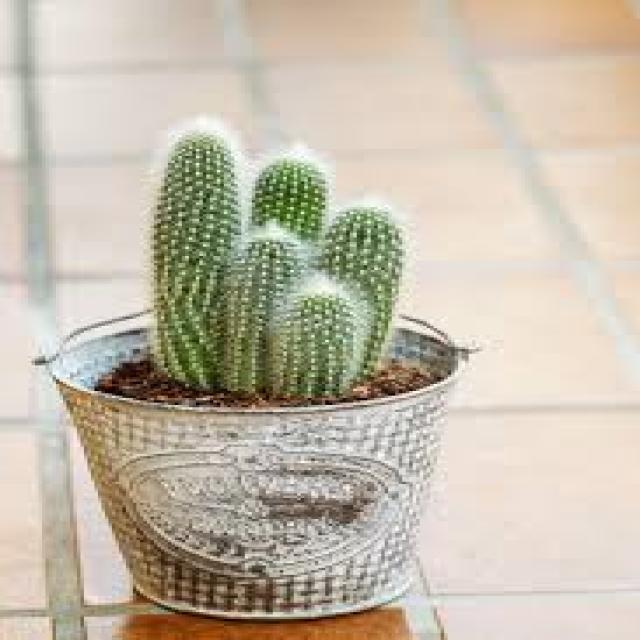cactus: (117, 93, 436, 410)
